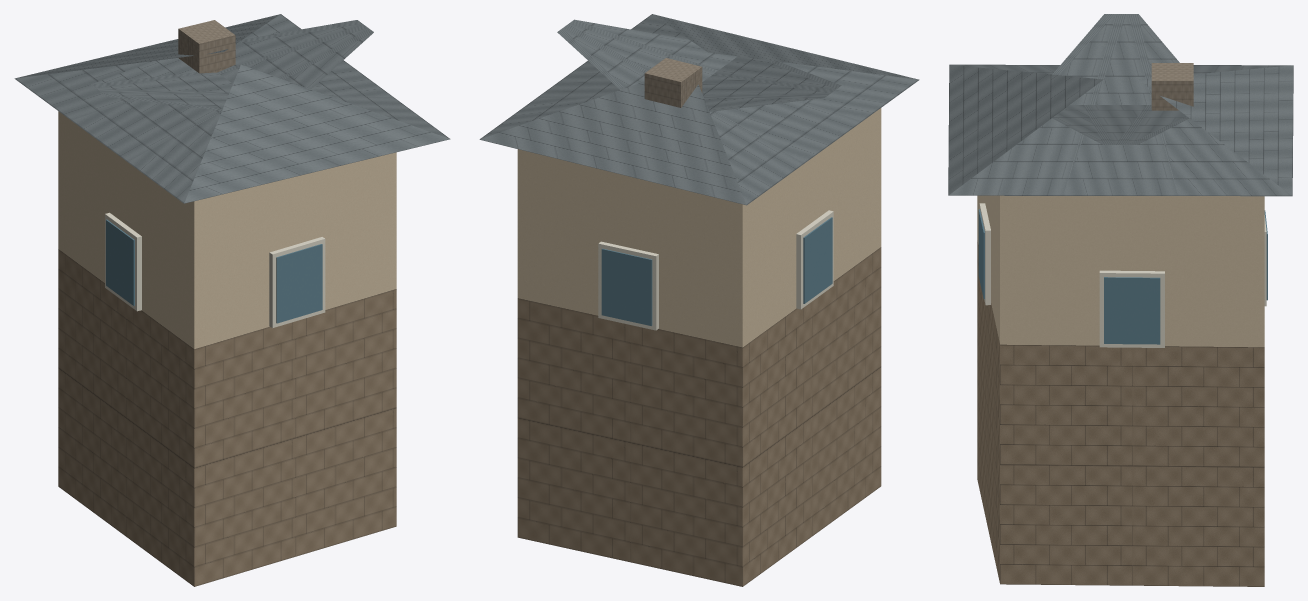
Rendered from core_0036.gltf.
3 views of the same model, side by side, from view 1: azimuth 30°, elevation 25°; view 2: azimuth 150°, elevation 25°; view 3: azimuth 270°, elevation 25° (orthographic).
Parts seen in each view (by area): view 1: core_0036; view 2: core_0036; view 3: core_0036.
Boxes of the visible parts, left/top/right/bottom form: core_0036: left=14, top=14, right=450, bottom=586; core_0036: left=479, top=14, right=919, bottom=586; core_0036: left=948, top=14, right=1293, bottom=586.
Size of the model in its own units: 5.53 by 9.05 by 6.14.
Materials: 6 (6 with a texture image).
